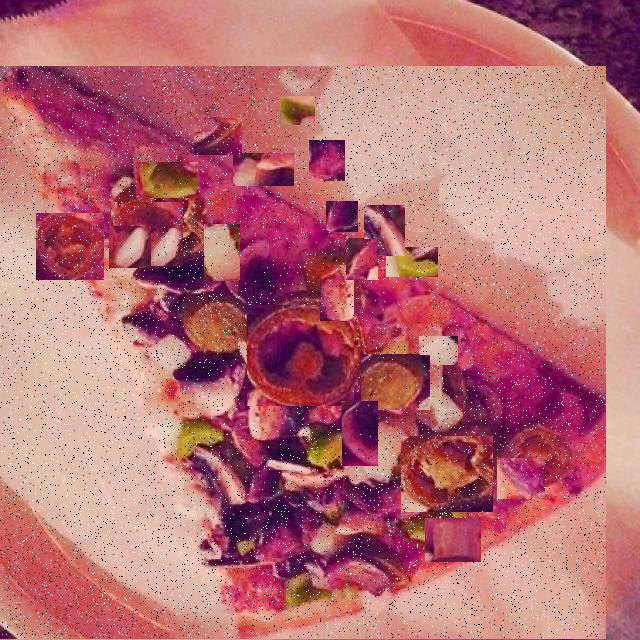Green Pepper: (241, 242, 306, 283), (246, 409, 302, 455), (136, 163, 198, 198), (386, 248, 438, 277), (280, 97, 315, 125)
Ham: (342, 401, 378, 466), (497, 459, 545, 499), (221, 109, 277, 139), (309, 141, 345, 181), (346, 239, 378, 280), (326, 202, 358, 232)
Jalapenoes: (248, 306, 356, 406), (401, 437, 493, 512), (111, 203, 183, 266), (36, 214, 104, 280), (361, 355, 430, 410), (194, 118, 242, 155)
Onions: (164, 299, 201, 380), (363, 284, 431, 324), (425, 519, 481, 562), (364, 206, 405, 256), (204, 225, 240, 281), (233, 154, 296, 186), (321, 266, 354, 321), (109, 226, 151, 268), (419, 337, 458, 365)
Pizza: (0, 67, 606, 638)
